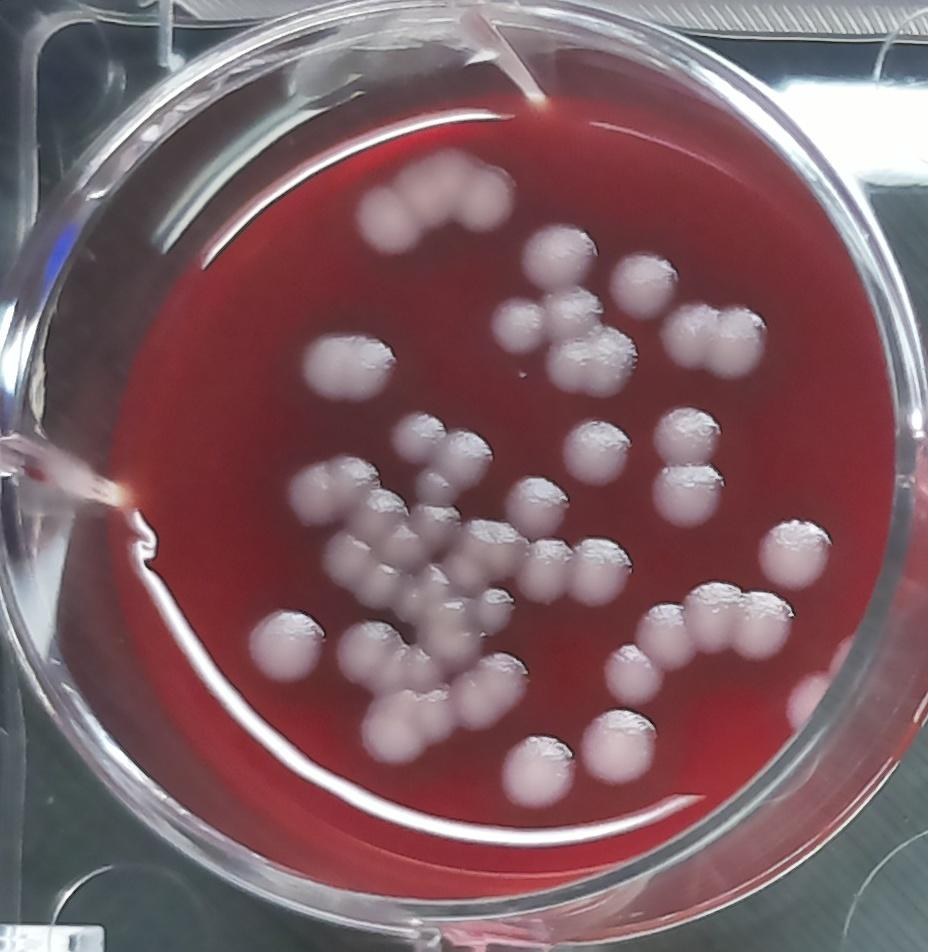bcereus: (344, 133, 524, 273)
